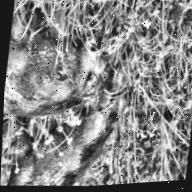boar: (2, 13, 124, 136), (27, 72, 127, 190)
